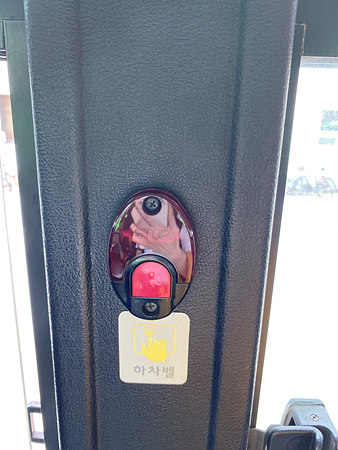bell: (106, 188, 195, 319)
